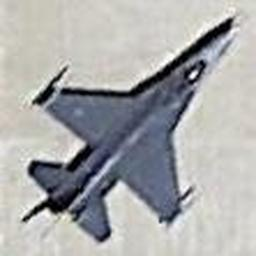Airplane: (19, 14, 240, 243)
